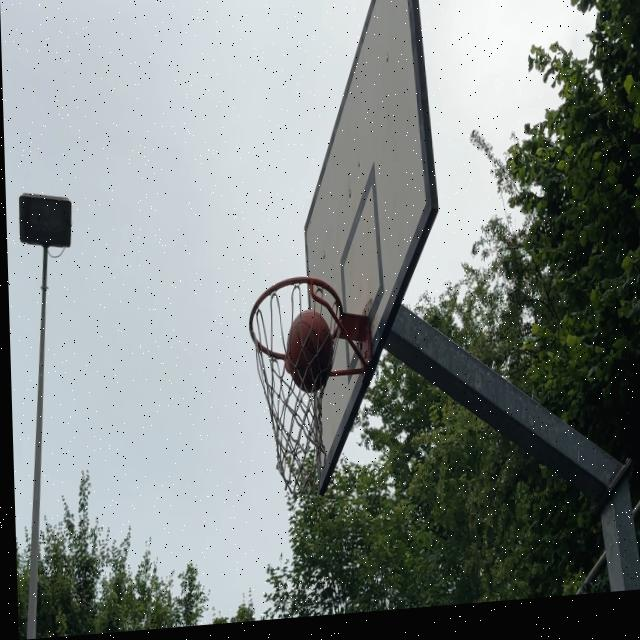Goal: (286, 309, 334, 391)
